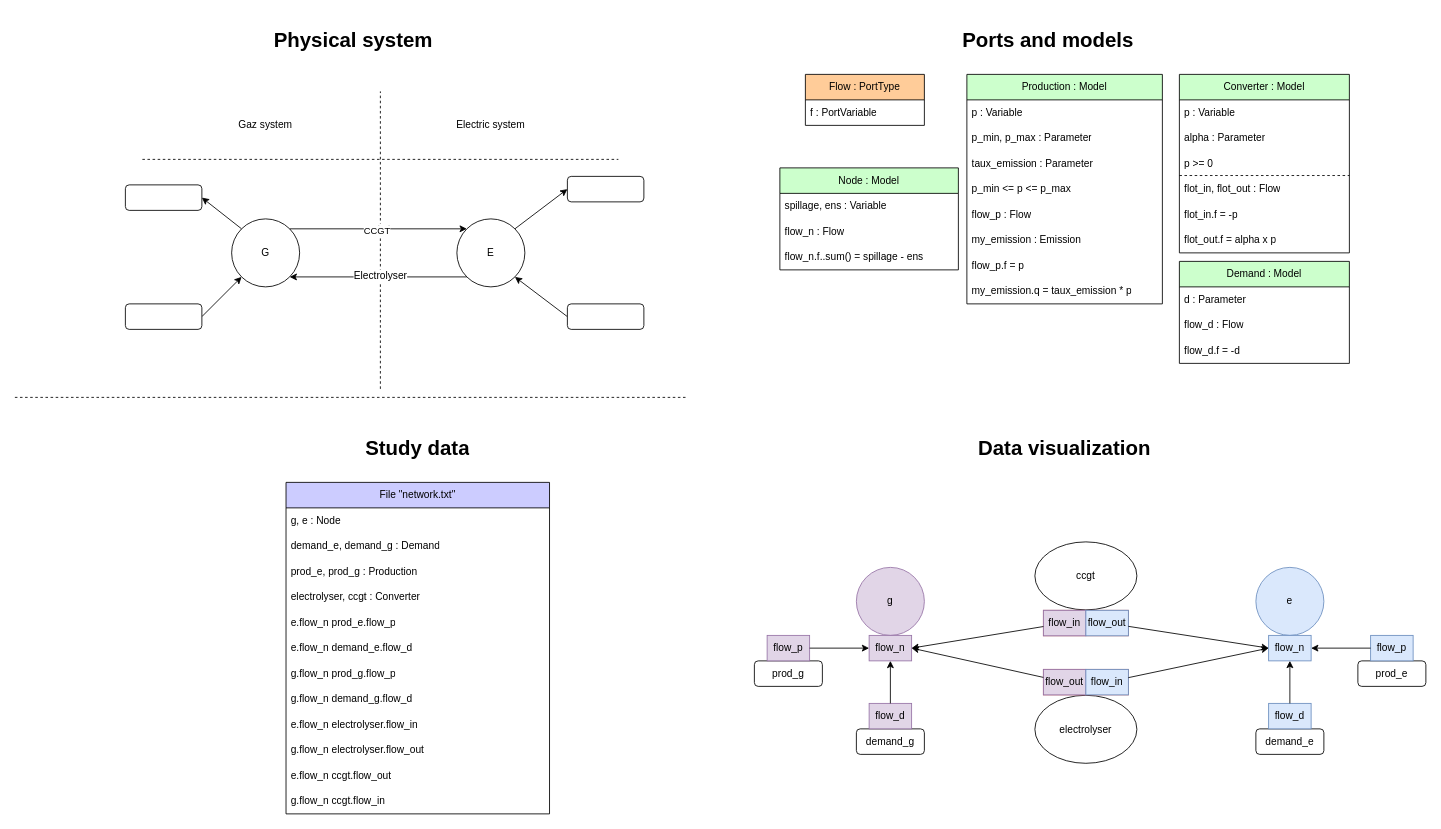
This 1441x829 diagram has some shape labels left out. Each missing label, with the centre of its shape:
"Elec demand" goes at point (605, 189).
"Elec production" goes at point (605, 316).
"Gaz demand" goes at point (163, 197).
"Gaz production" goes at point (163, 316).
